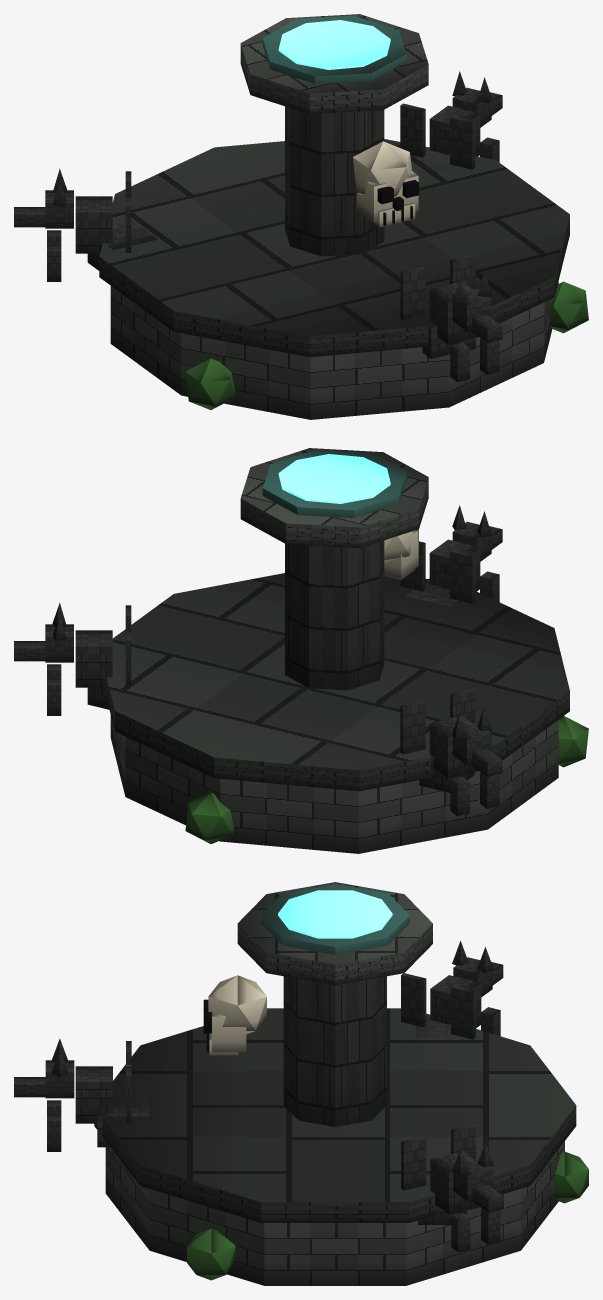
The model's file is fountain.glb.
3 views of the same model, one above another, from view 1: azimuth 30°, elevation 25°; view 2: azimuth 150°, elevation 25°; view 3: azimuth 270°, elevation 25° (orthographic).
Parts seen in each view (by area): view 1: fountain; view 2: fountain; view 3: fountain.
Boxes of the visible parts, x1,y1,x2,y2 form: fountain: (14, 14, 588, 419); fountain: (14, 448, 588, 853); fountain: (14, 882, 588, 1285).
Bounding box in the file's own units: 1.97 × 1.1 × 2.
Materials: 1 (1 with a texture image).
